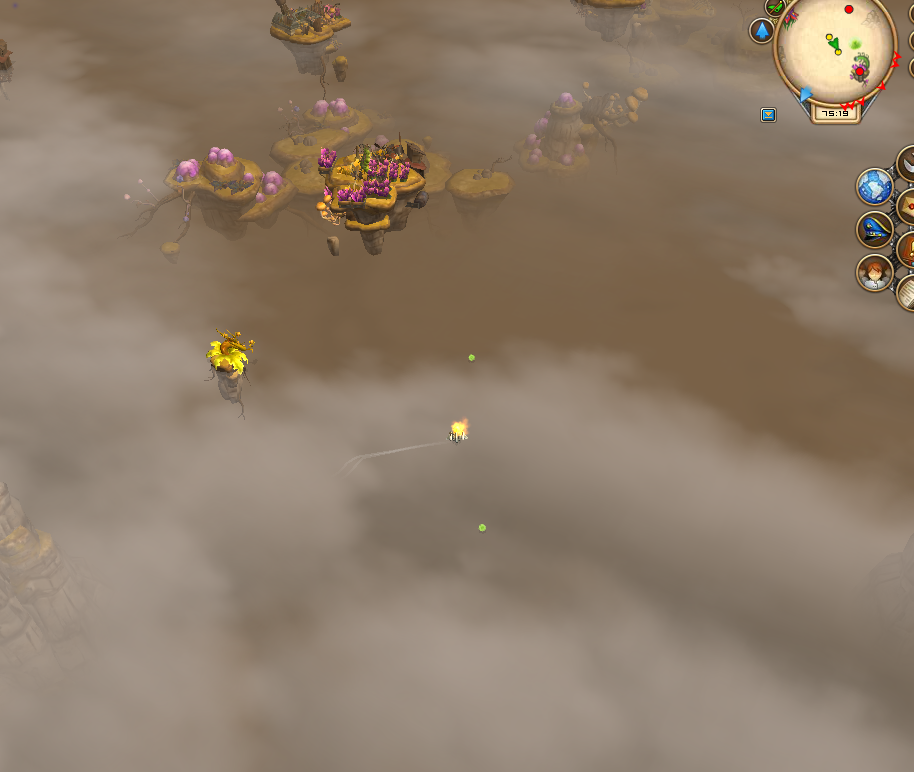dandelion-empty: (205, 326, 255, 404)
fluff: (476, 520, 489, 535), (467, 350, 476, 363)
